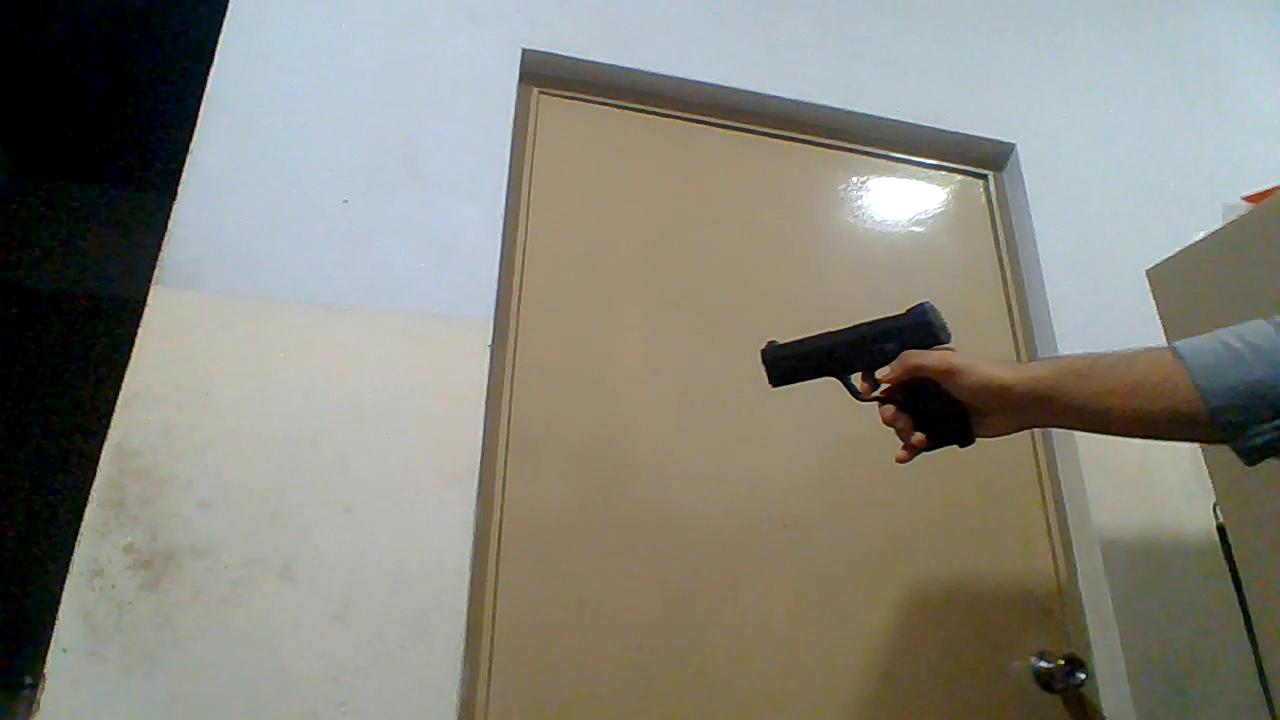weapon: (759, 300, 979, 450)
